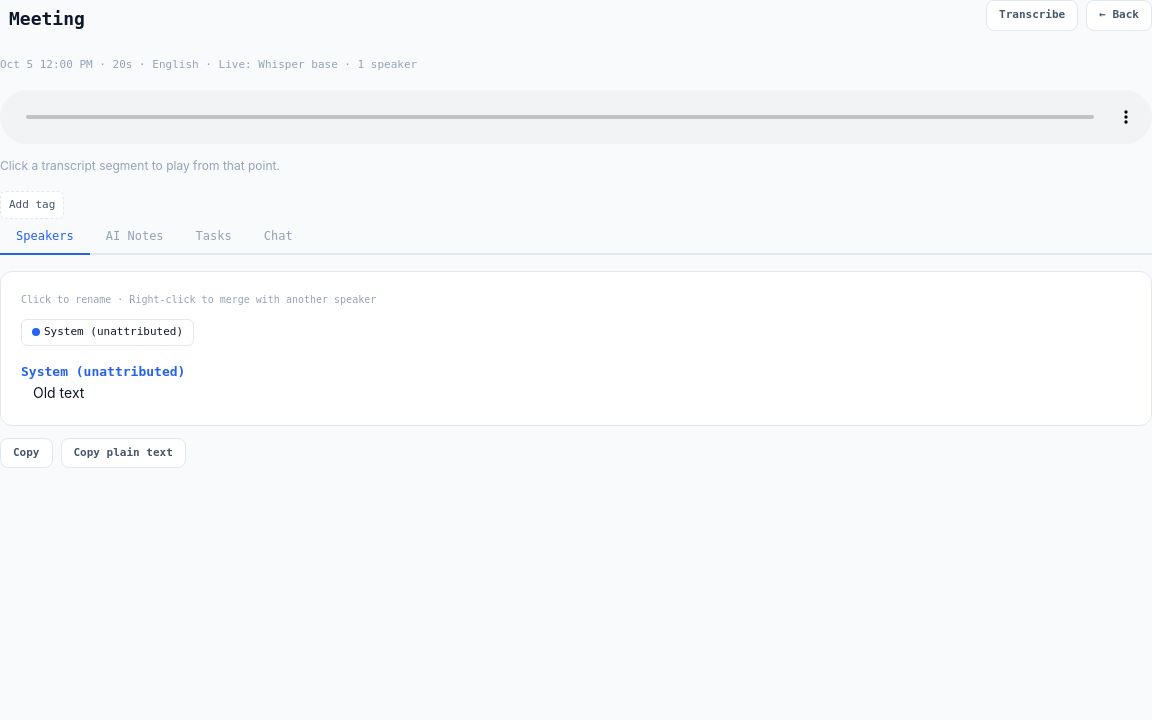
Test: generated fallback labels do not replace newly available speaker attribution in a draft
What coordinates should you click on to do the following:
click the button "Transcribe"
I would click on:
 (1032, 15)
Its box is [986,0,1078,30].
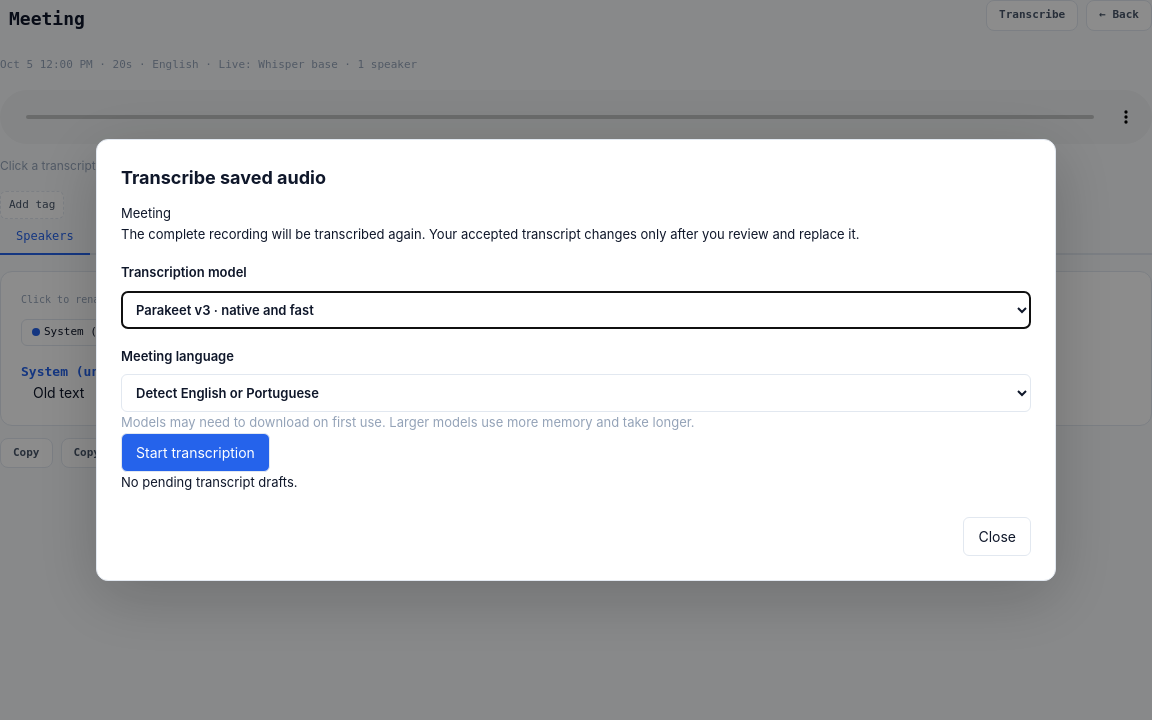
What coordinates should you click on to do the following:
click the button "Start transcription"
I would click on:
 (195, 452)
Its box is [121,433,270,472].
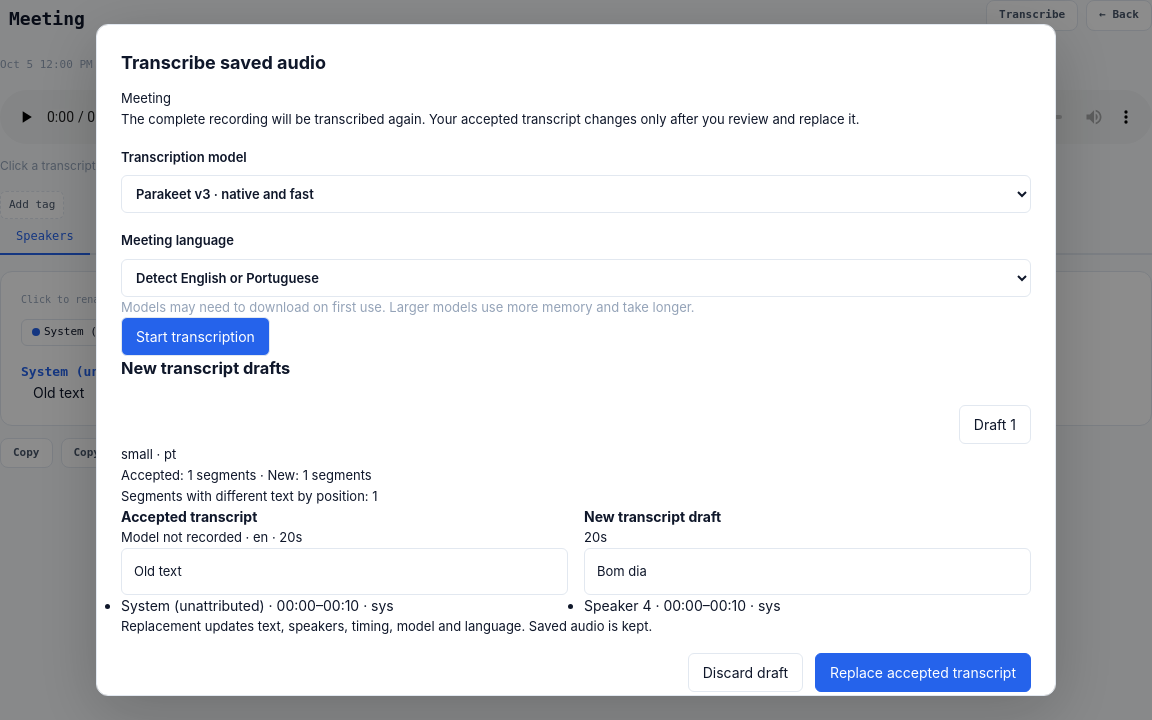
Now the button "Replace accepted transcript" is shown, box [815,653,1031,692]
